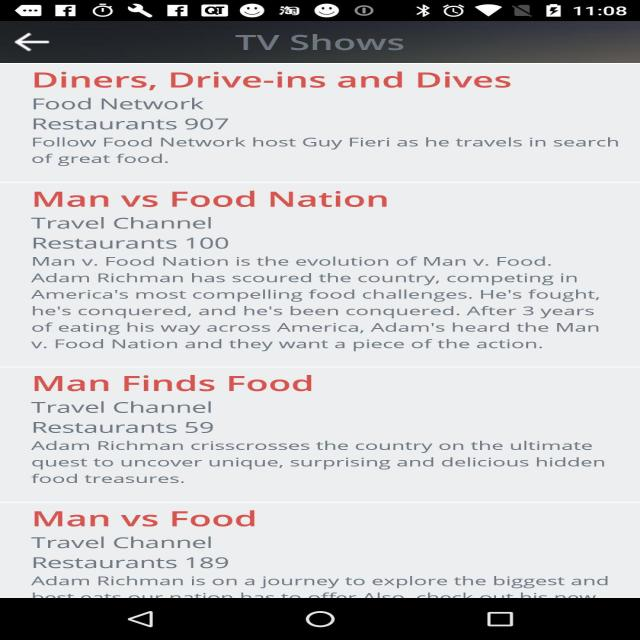icon: (4, 28, 81, 62)
text: (11, 182, 610, 357), (16, 361, 603, 495), (11, 67, 622, 173), (18, 503, 613, 598), (223, 26, 467, 54)
